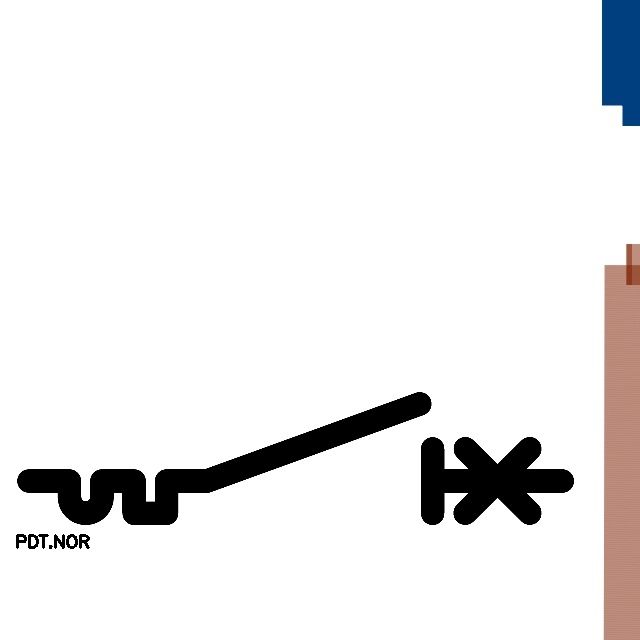interruptor_termomagnetico: (15, 390, 576, 527)
